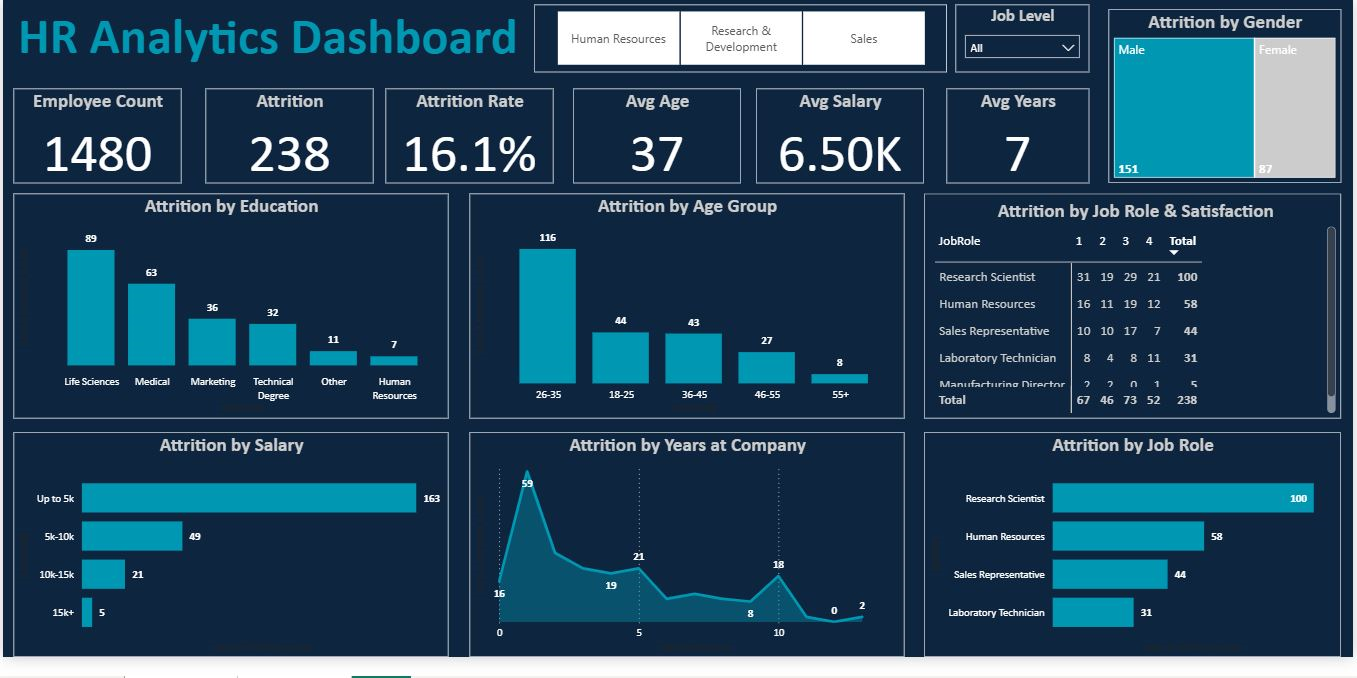

The page's visual inventory and layout, read from the dashboard file:
{"tool":"powerbi","page":{"name":"Page 1","canvas":[1500,730],"ordinal":0},"visuals":[{"type":"card","title":"Employee Count","fields":{"Values":["CountNonNull(HR_Data.EmpID)"]},"box":[11.7,98.3,186.7,105],"z":0},{"type":"textbox","box":[11.7,0,578.3,80],"z":1000},{"type":"slicer","title":"Departments","fields":{"Values":["Departments.Department"]},"box":[590,5,458.3,75],"z":2000},{"type":"treemap","title":"Attrition by Gender","fields":{"Group":["HR_Data.Gender"],"Values":["Sum(HR_Data.Attrition_Count)"]},"box":[1228.3,10,258.3,193.3],"z":3000},{"type":"card","title":"Attrition","fields":{"Values":["Sum(HR_Data.Attrition_Count)"]},"box":[225,98.3,186.7,105],"z":4000},{"type":"card","title":"Attrition Rate","fields":{"Values":["HR_Data.Attrition_Rate"]},"box":[425,98.3,186.7,105],"z":5000},{"type":"card","title":"Avg Age","fields":{"Values":["Avg(HR_Data.Age)"]},"box":[633.3,98.3,186.7,105],"z":6000},{"type":"card","title":"Avg Salary","fields":{"Values":["Avg(HR_Data.MonthlyIncome)"]},"box":[836.7,98.3,186.7,105],"z":7000},{"type":"card","title":"Avg Years","fields":{"Values":["Avg(HR_Data.YearsAtCompany)"]},"box":[1048.3,98.3,158.3,105],"z":8000},{"type":"clusteredColumnChart","title":"Attrition by Education","fields":{"Category":["Education.Education"],"Y":["Sum(HR_Data.Attrition_Count)"]},"box":[11.7,215,483.3,250],"z":9000},{"type":"clusteredBarChart","title":"Attrition by Salary","fields":{"Category":["HR_Data.SalarySlab"],"Y":["Sum(HR_Data.Attrition_Count)"]},"box":[11.7,480,483.3,250],"z":10000},{"type":"clusteredColumnChart","title":"Attrition by Age Group","fields":{"Category":["HR_Data.AgeGroup"],"Y":["Sum(HR_Data.Attrition_Count)"]},"box":[518.3,215,483.3,250],"z":11000},{"type":"clusteredBarChart","title":"Attrition by Job Role","fields":{"Category":["Jobs.JobRole"],"Y":["Sum(HR_Data.Attrition_Count)"]},"box":[1023.3,480,463.3,250],"z":12000},{"type":"areaChart","title":"Attrition by Years at Company","fields":{"Category":["HR_Data.YearsAtCompany"],"Y":["Sum(HR_Data.Attrition_Count)"]},"box":[518.3,480,483.3,250],"z":13000},{"type":"pivotTable","title":"Attrition by Job Role & Satisfaction","fields":{"Rows":["Jobs.JobRole"],"Values":["Sum(HR_Data.Attrition_Count)"],"Columns":["HR_Data.JobSatisfaction"]},"box":[1023.3,215,463.3,250],"z":14000},{"type":"slicer","title":"Job Level","fields":{"Values":["HR_Data.JobLevel"]},"box":[1058.3,5,148.3,75],"z":15000}]}

Visuals, with their boxes in screenshot pixels (x1, y1, x2, y2), scaled from the page's 1500x730 canvas onto the 1357x678 screenshot:
"Employee Count" card: {"x1": 11, "y1": 91, "x2": 179, "y2": 189}
textbox: {"x1": 11, "y1": 0, "x2": 534, "y2": 74}
"Departments" slicer: {"x1": 534, "y1": 5, "x2": 948, "y2": 74}
"Attrition by Gender" treemap: {"x1": 1111, "y1": 9, "x2": 1345, "y2": 189}
"Attrition" card: {"x1": 204, "y1": 91, "x2": 372, "y2": 189}
"Attrition Rate" card: {"x1": 384, "y1": 91, "x2": 553, "y2": 189}
"Avg Age" card: {"x1": 573, "y1": 91, "x2": 742, "y2": 189}
"Avg Salary" card: {"x1": 757, "y1": 91, "x2": 926, "y2": 189}
"Avg Years" card: {"x1": 948, "y1": 91, "x2": 1092, "y2": 189}
"Attrition by Education" clusteredColumnChart: {"x1": 11, "y1": 200, "x2": 448, "y2": 432}
"Attrition by Salary" clusteredBarChart: {"x1": 11, "y1": 446, "x2": 448, "y2": 677}
"Attrition by Age Group" clusteredColumnChart: {"x1": 469, "y1": 200, "x2": 906, "y2": 432}
"Attrition by Job Role" clusteredBarChart: {"x1": 926, "y1": 446, "x2": 1345, "y2": 677}
"Attrition by Years at Company" areaChart: {"x1": 469, "y1": 446, "x2": 906, "y2": 677}
"Attrition by Job Role & Satisfaction" pivotTable: {"x1": 926, "y1": 200, "x2": 1345, "y2": 432}
"Job Level" slicer: {"x1": 957, "y1": 5, "x2": 1092, "y2": 74}
